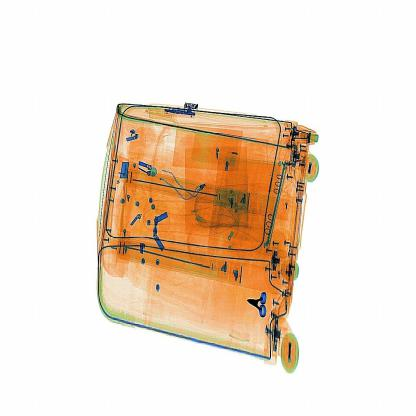gun: (242, 286, 271, 325)
